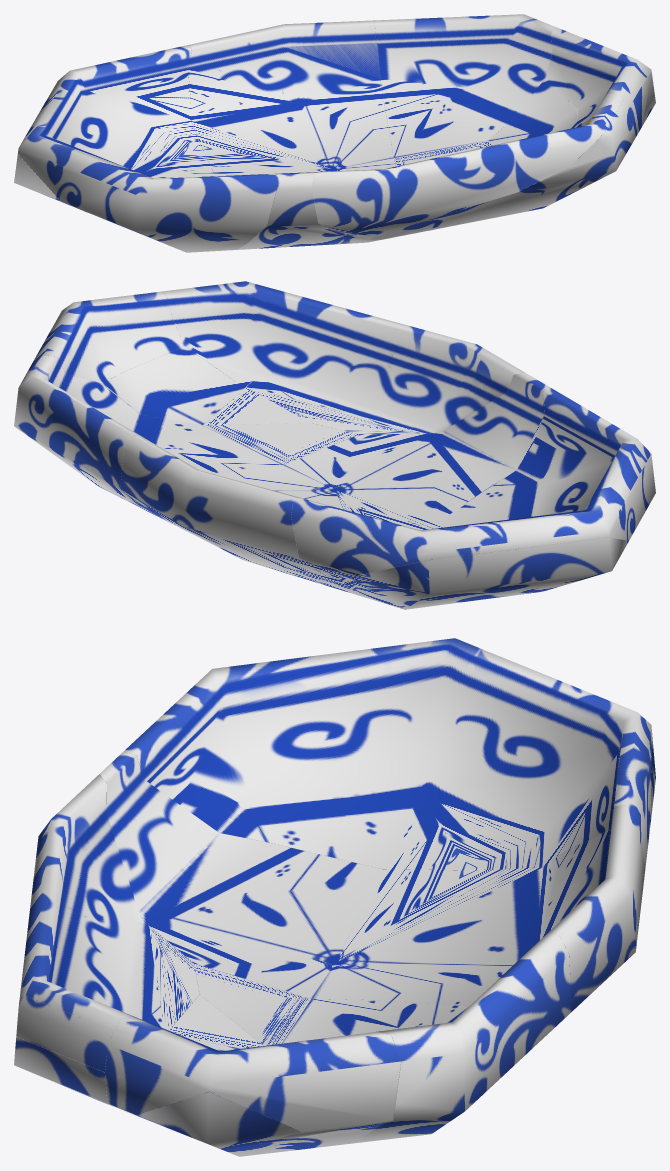
File: PlateBreak.fbx
The picture shows the model from 3 angles, top to bottom: view 1: azimuth 30°, elevation 25°; view 2: azimuth 150°, elevation 25°; view 3: azimuth 270°, elevation 25°; orthographic projection. The views are drawn at different scales.
Visible parts, largest first — view 1: plate_cell.005, plate_cell.002, plate_cell.008, plate_cell.003, plate_cell.004, plate_cell.001, plate_cell, plate_cell.006, plate_cell.009; view 2: plate_cell.005, plate_cell.003, plate_cell.002, plate_cell.008, plate_cell.009, plate_cell.004, plate_cell; view 3: plate_cell.002, plate_cell.005, plate_cell.008, plate_cell.003, plate_cell.004, plate_cell.007, plate_cell, plate_cell.006, plate_cell.001.
Boxes of the visible parts, box(x1,y1,x2,y2) form: plate_cell.005: box(188, 20, 395, 249); plate_cell.002: box(18, 44, 277, 252); plate_cell.008: box(374, 14, 554, 166); plate_cell.003: box(311, 93, 623, 238); plate_cell.004: box(544, 27, 651, 137); plate_cell.001: box(368, 123, 635, 239); plate_cell: box(475, 80, 577, 149); plate_cell.006: box(570, 99, 632, 167); plate_cell.009: box(14, 154, 131, 230); plate_cell.005: box(120, 373, 548, 594); plate_cell.003: box(162, 281, 524, 434); plate_cell.002: box(291, 387, 655, 583); plate_cell.008: box(14, 356, 359, 523); plate_cell.009: box(345, 537, 628, 609); plate_cell.004: box(29, 291, 184, 383); plate_cell: box(101, 346, 309, 425); plate_cell.002: box(124, 638, 652, 870); plate_cell.005: box(100, 751, 645, 1011); plate_cell.008: box(194, 933, 571, 1143); plate_cell.003: box(20, 774, 199, 1030); plate_cell.004: box(105, 1016, 401, 1143); plate_cell.007: box(137, 1092, 301, 1150); plate_cell: box(126, 995, 379, 1156); plate_cell.006: box(16, 996, 113, 1072); plate_cell.001: box(14, 1022, 176, 1113).
Size of the model in its own units: 1388 by 254 by 847.
